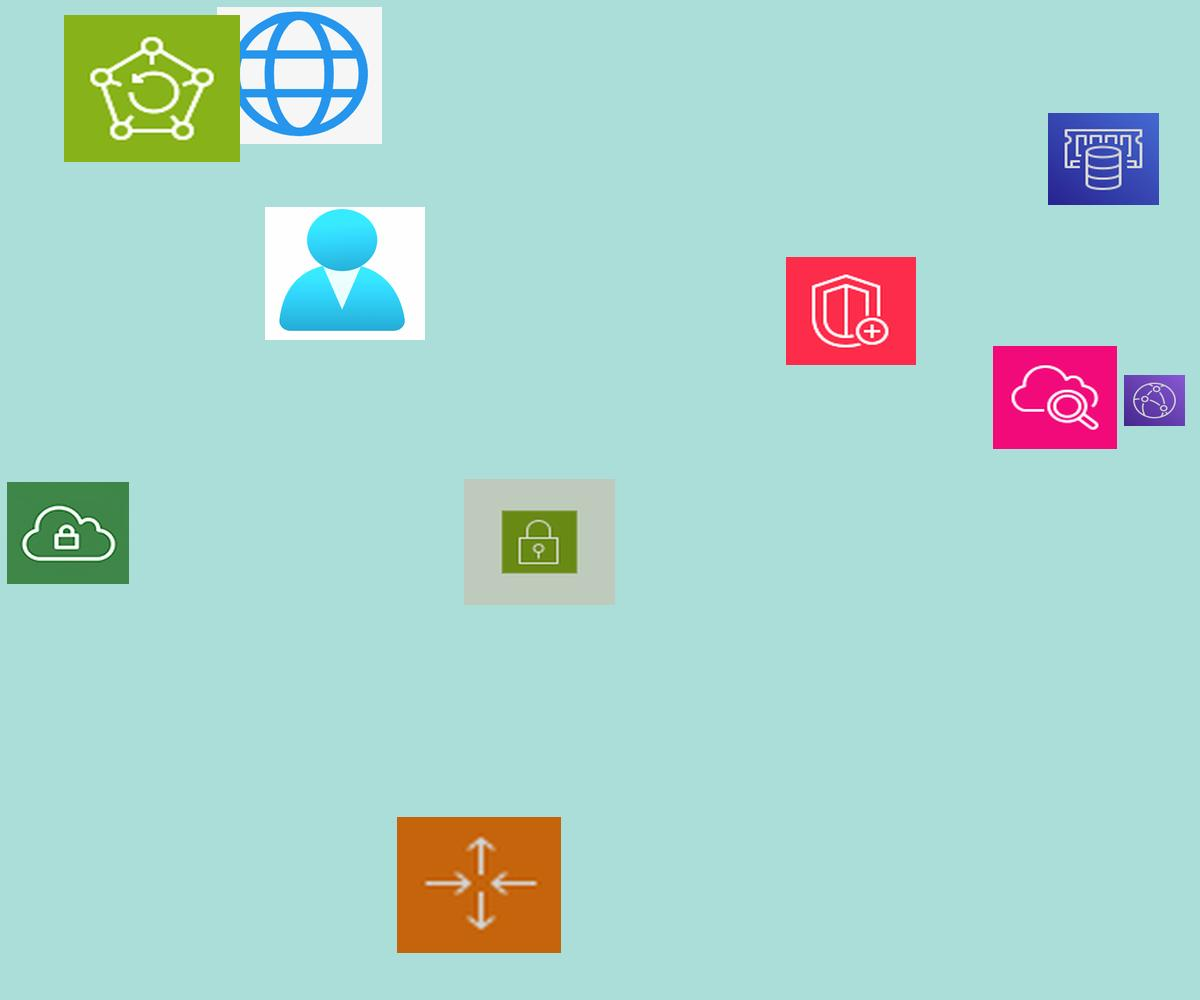AWS-Backup: (64, 15, 240, 162)
AWS-CloudFront: (1124, 375, 1185, 426)
AWS-CloudWatch: (993, 346, 1117, 449)
AWS-ElastiCache: (1048, 113, 1159, 205)
AWS-Private_vpc: (7, 482, 129, 584)
AWS-Public-subnet: (464, 479, 615, 605)
AWS-Scaling-group: (397, 817, 561, 953)
AWS-Shield: (786, 257, 916, 365)
Azure_http: (217, 7, 382, 144)
Azure_users: (265, 207, 425, 340)
